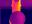Hotspot: (17, 0, 21, 11)
